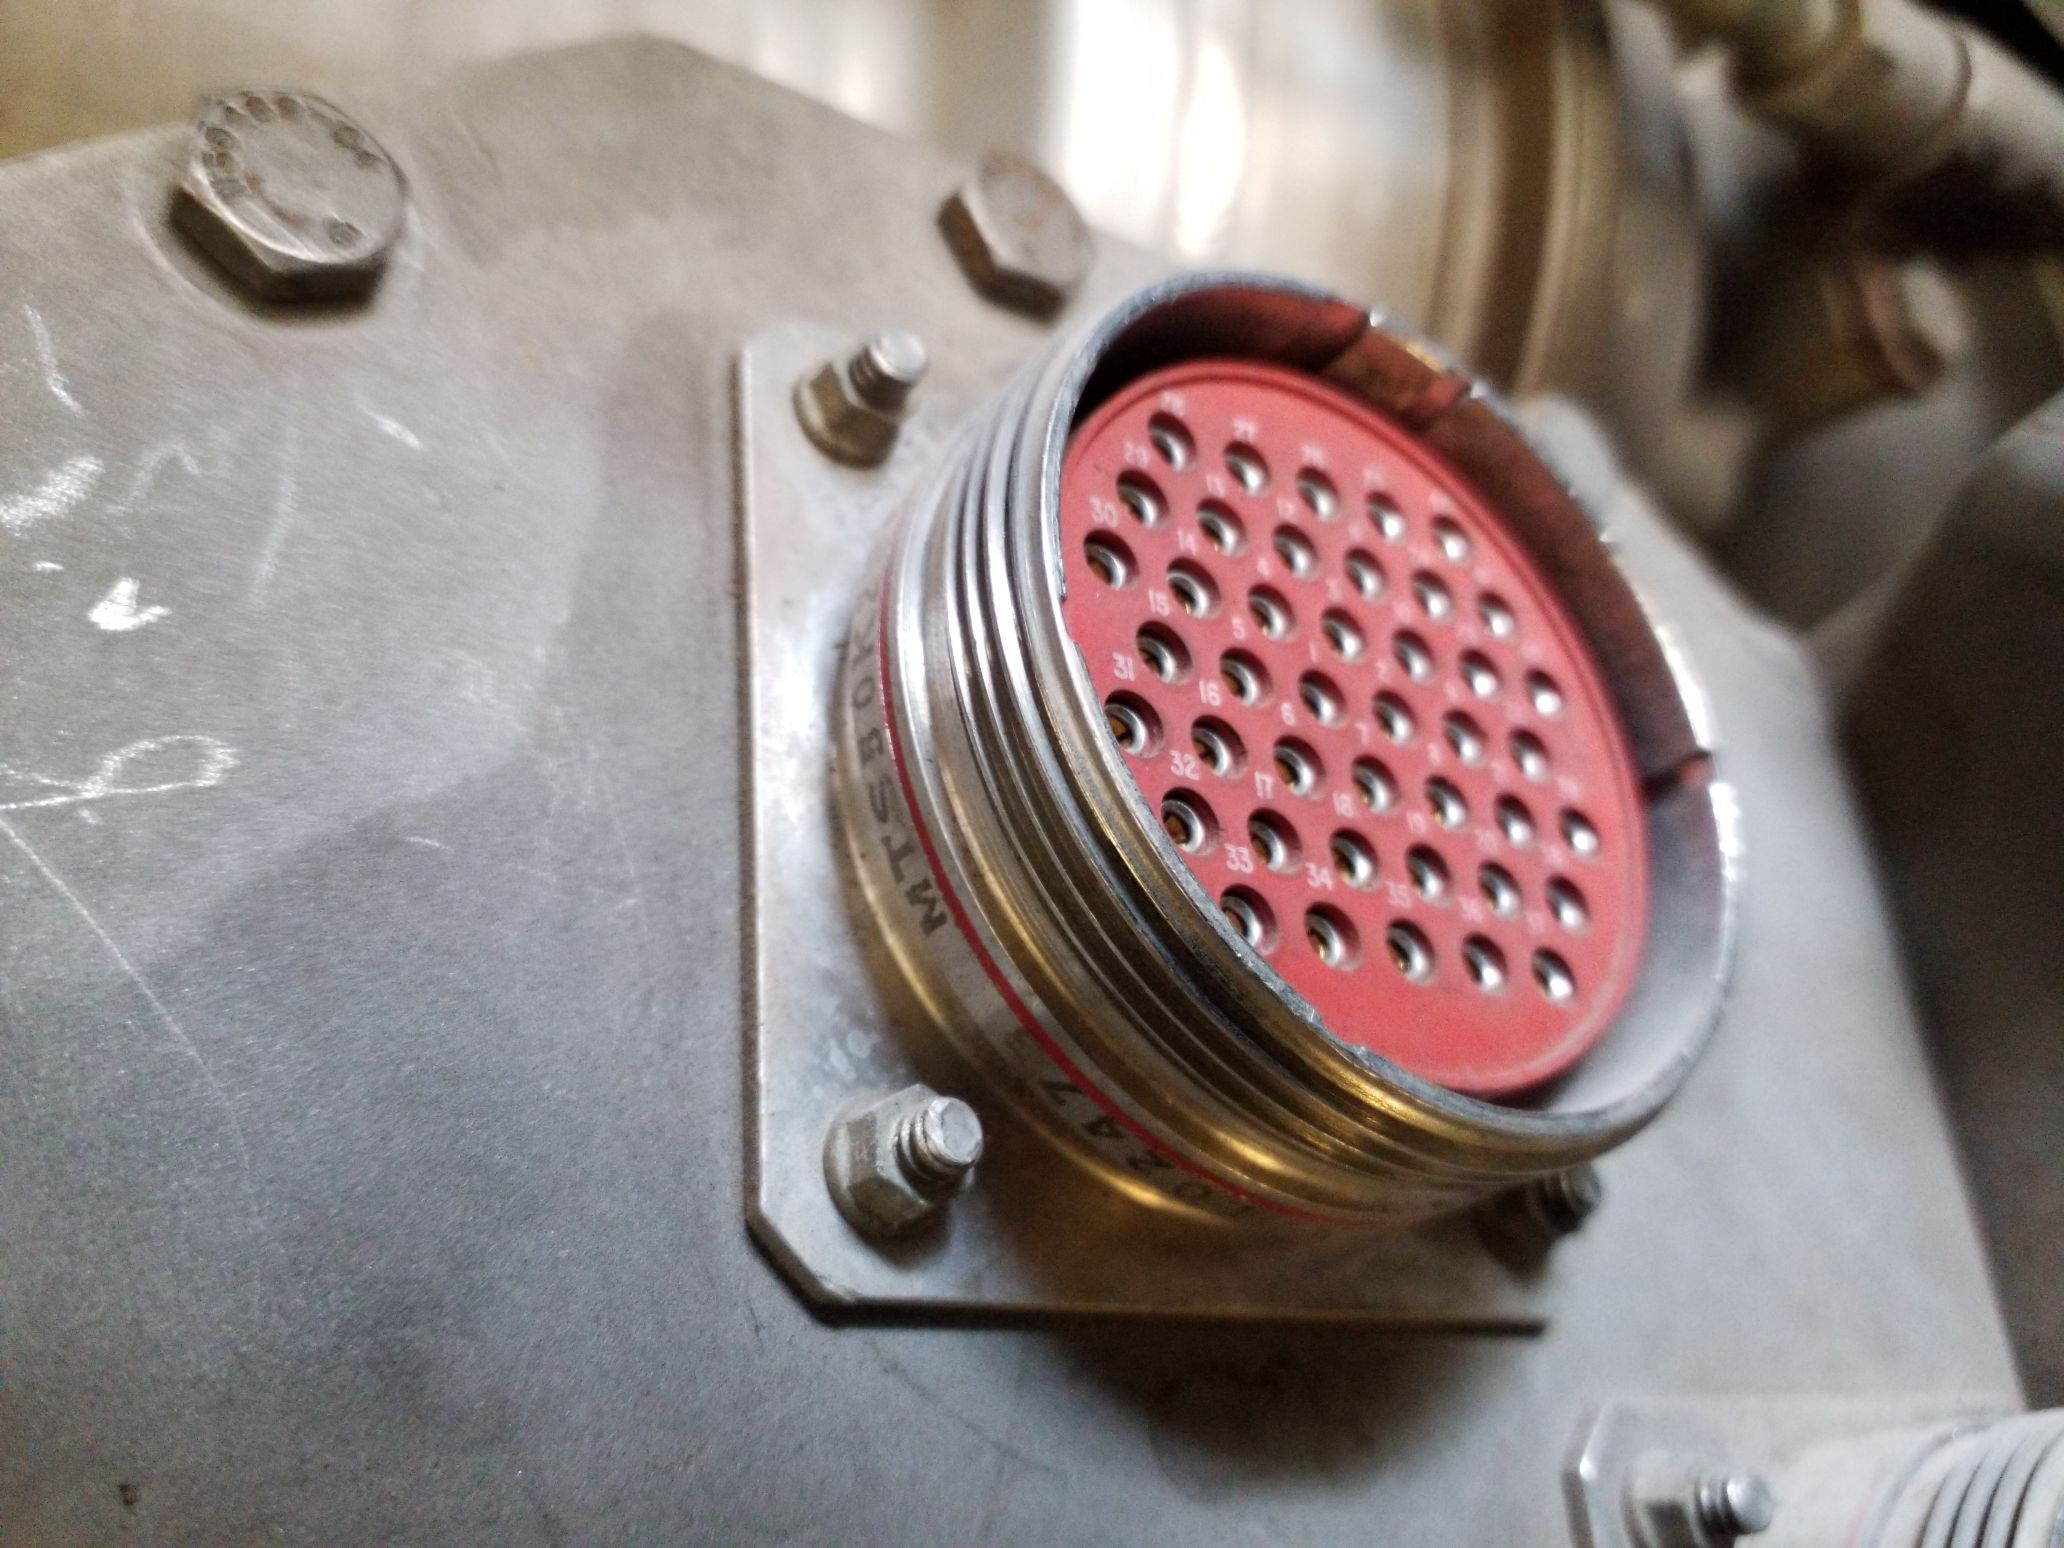inletnumbers: (765, 257, 1750, 1223)
